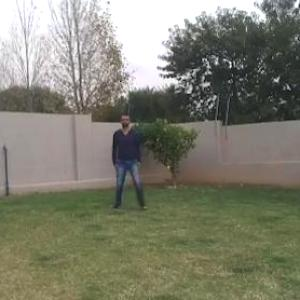follow: (112, 110, 138, 211)
